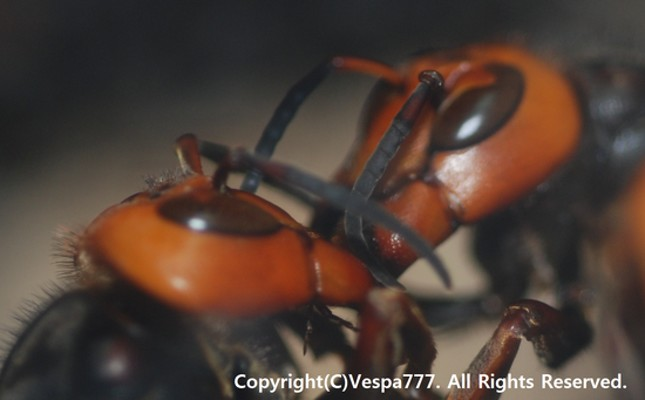asian_giant_hornet: (1, 132, 373, 397), (331, 30, 645, 283)
